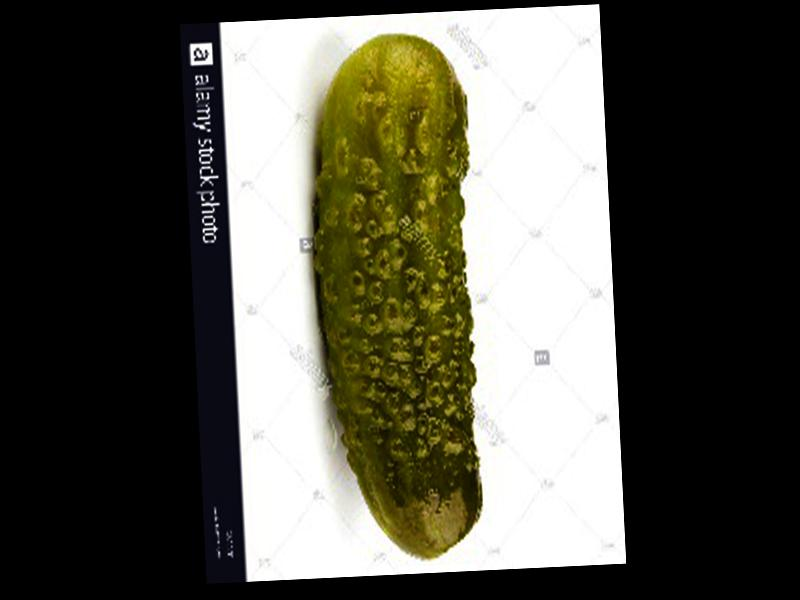Cucumber: (304, 30, 488, 565)
